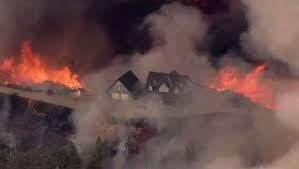fire: (1, 41, 85, 91), (210, 62, 270, 103)
